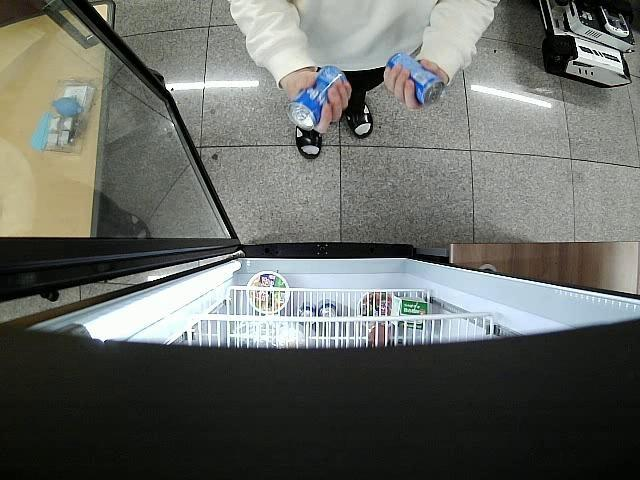15_letsbe: (286, 66, 348, 132), (386, 54, 444, 106)
